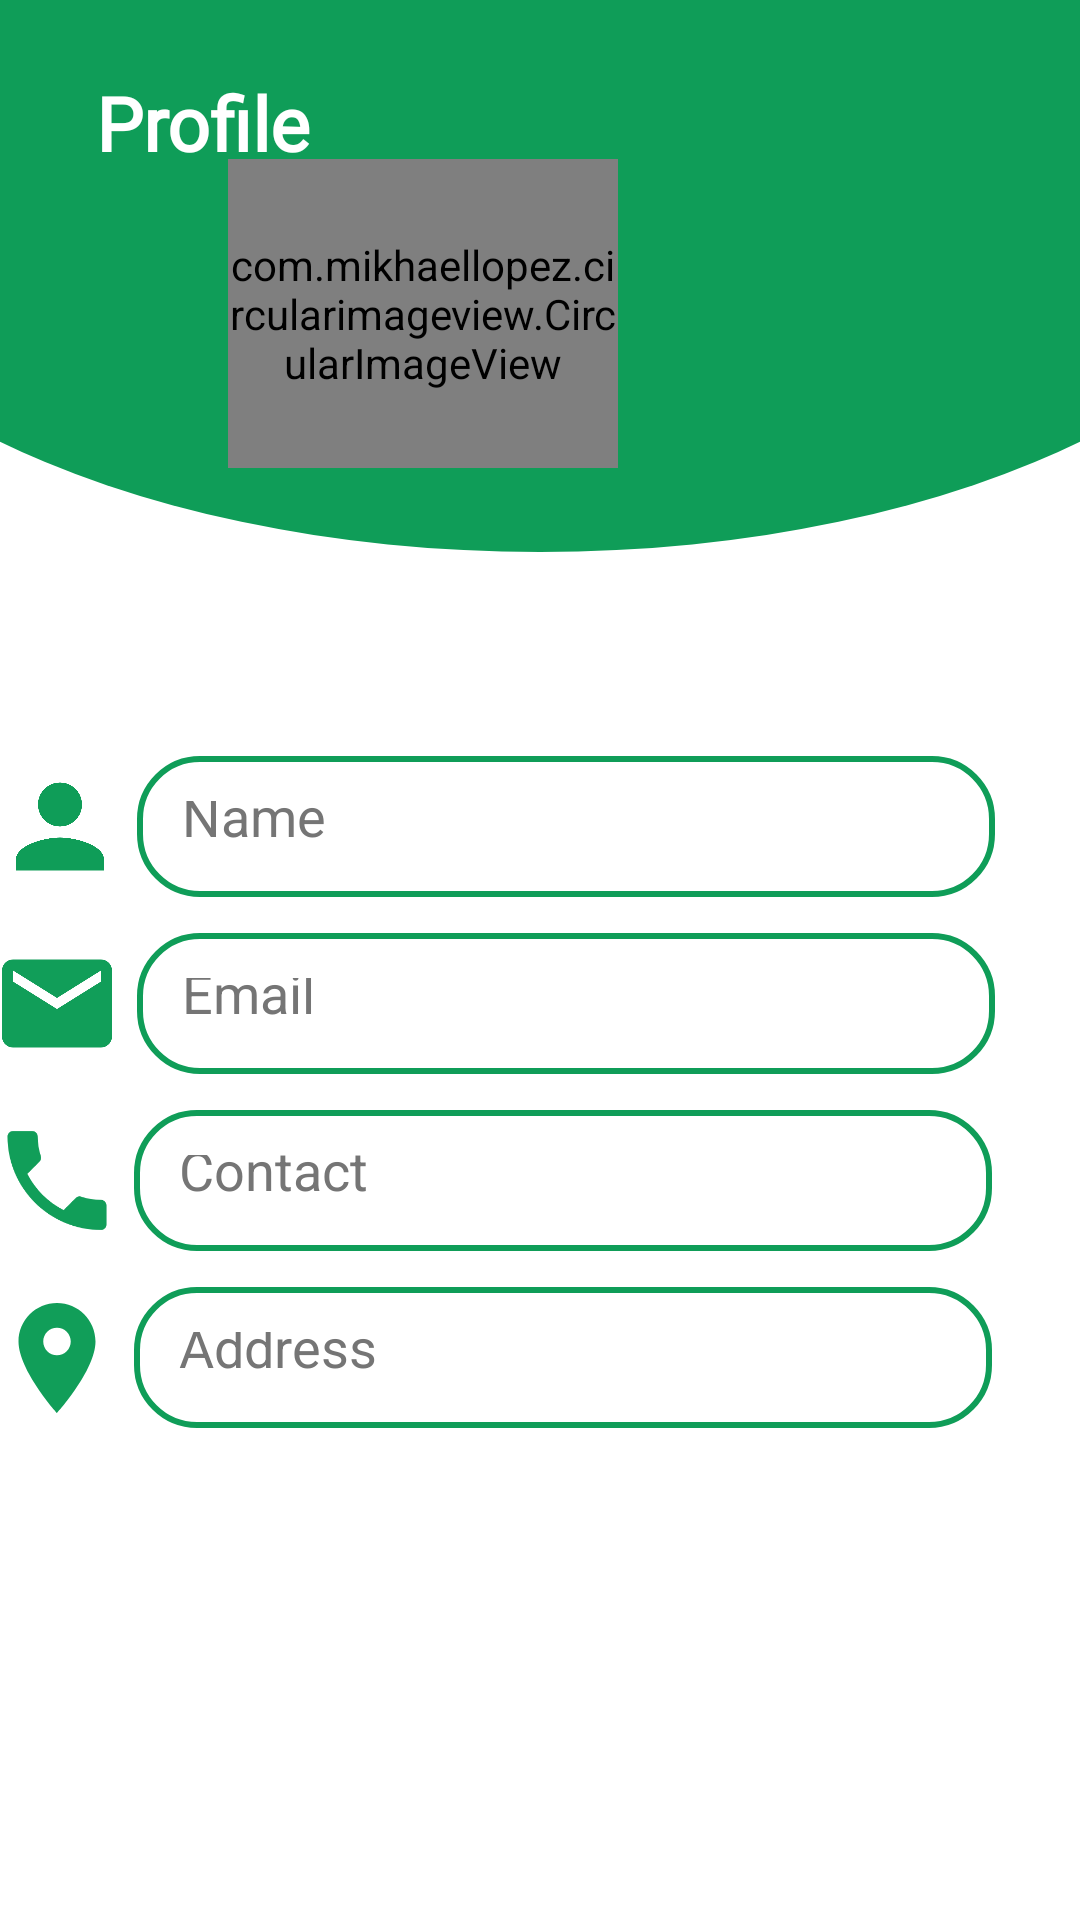

Screen size 1080*1920. Icon name, then its box in pixels as (x1, y1, x2, y2):
loc: (18, 1303, 96, 1413)
phone: (7, 1131, 107, 1230)
profile: (16, 782, 104, 871)
